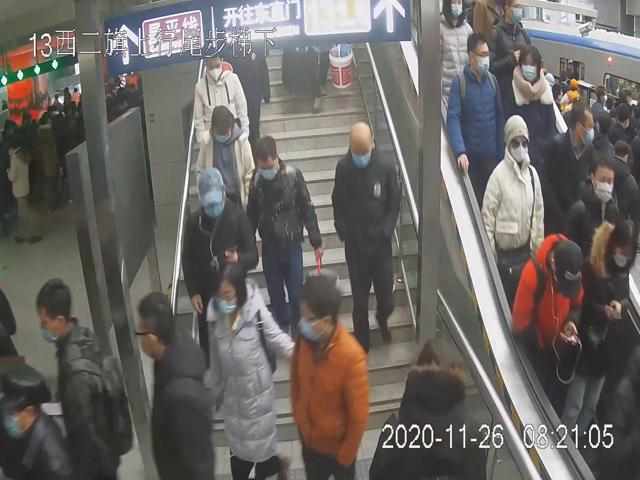person: (206, 262, 291, 477), (331, 120, 403, 356), (290, 270, 365, 480), (246, 133, 320, 324), (182, 167, 258, 350), (135, 295, 209, 480), (481, 111, 544, 304), (448, 32, 504, 215), (190, 42, 250, 151), (194, 101, 254, 207)
